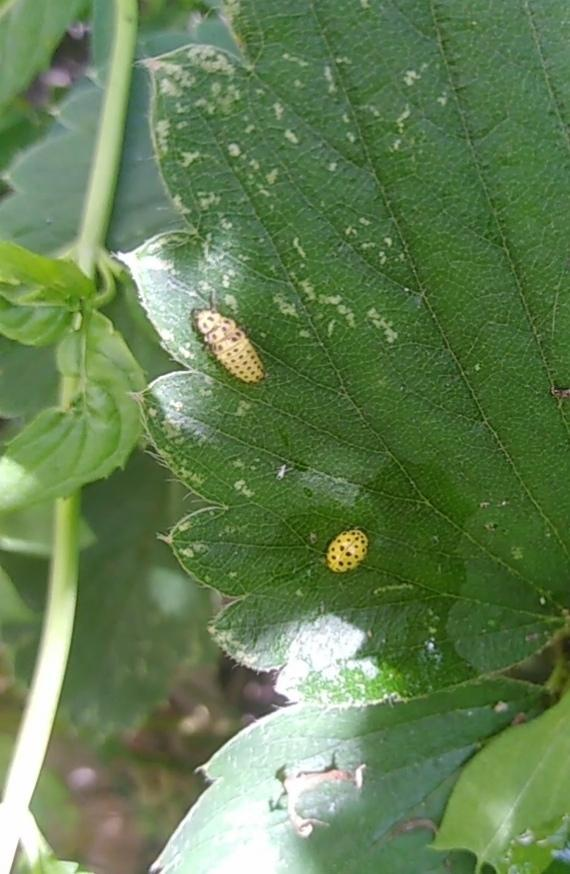ladybug: (190, 307, 271, 386), (325, 527, 373, 576)
